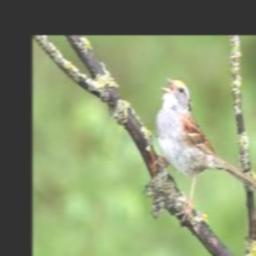Sparrow: (155, 76, 256, 225)
